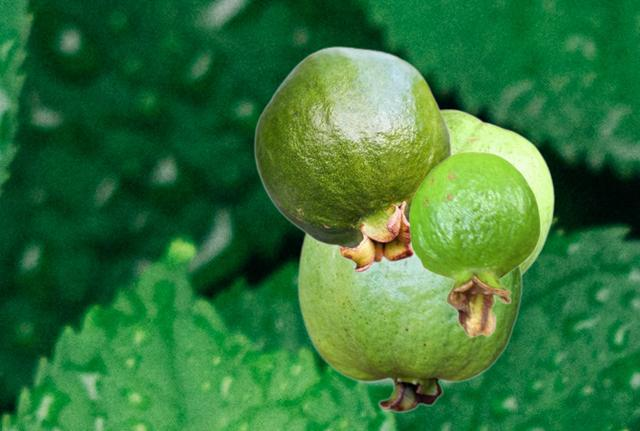guava: (253, 46, 451, 272), (297, 234, 522, 412), (408, 150, 540, 337), (441, 109, 553, 274)
